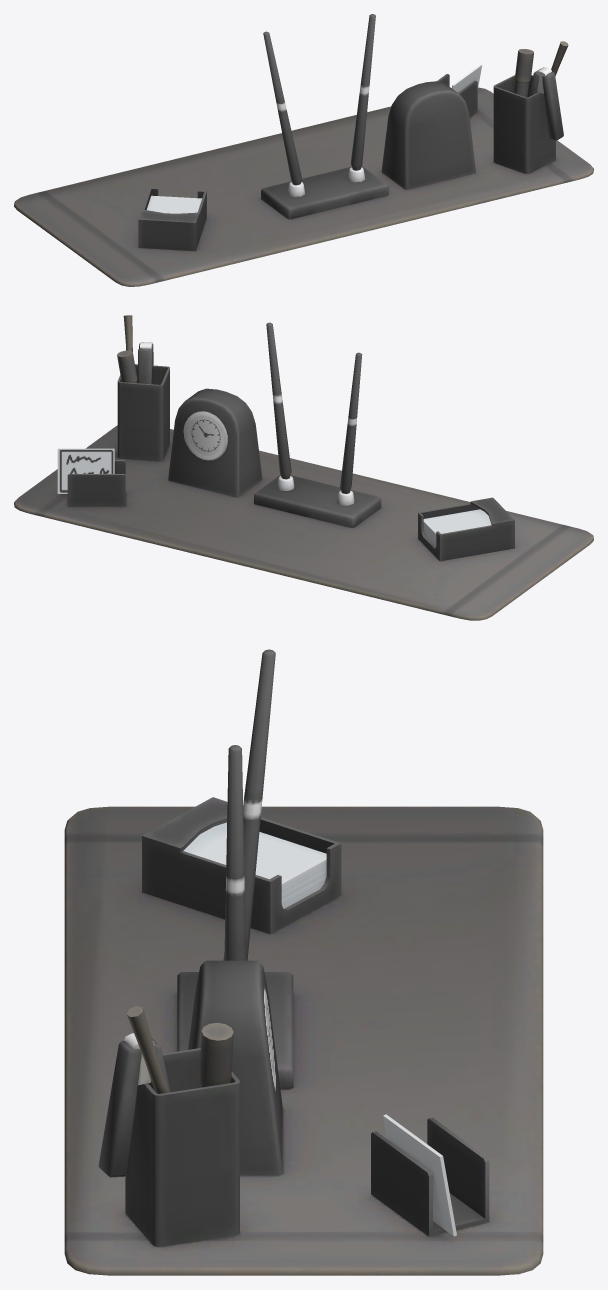
The model's file is OfficeDeskSet01.fbx.
The picture shows the model from 3 angles, top to bottom: view 1: azimuth 30°, elevation 25°; view 2: azimuth 150°, elevation 25°; view 3: azimuth 270°, elevation 25°; orthographic projection. The views are drawn at different scales.
Visible parts, largest first — view 1: OfficeDeskSet01; view 2: OfficeDeskSet01; view 3: OfficeDeskSet01.
Boxes of the visible parts, bbox=[...] form: OfficeDeskSet01: bbox=[14, 14, 593, 286]; OfficeDeskSet01: bbox=[14, 315, 593, 620]; OfficeDeskSet01: bbox=[64, 649, 543, 1275].
Bounding box in the file's own units: 0.6239 × 0.2177 × 0.2722.
Materials: 1 (1 with a texture image).
